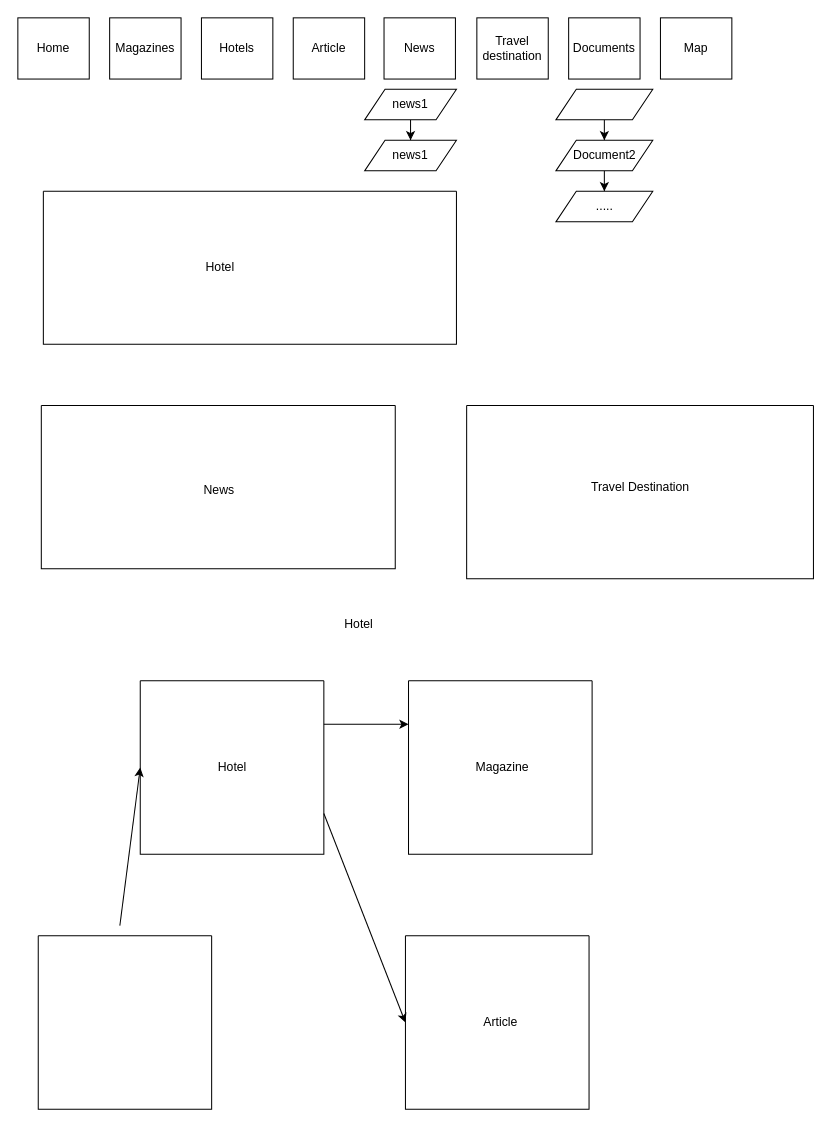
This 831x1127 diagram has some shape labels left out. Each missing label, with the centre of its shape:
"Document 1" belongs at [604,104].
"User" belongs at [124,1022].
